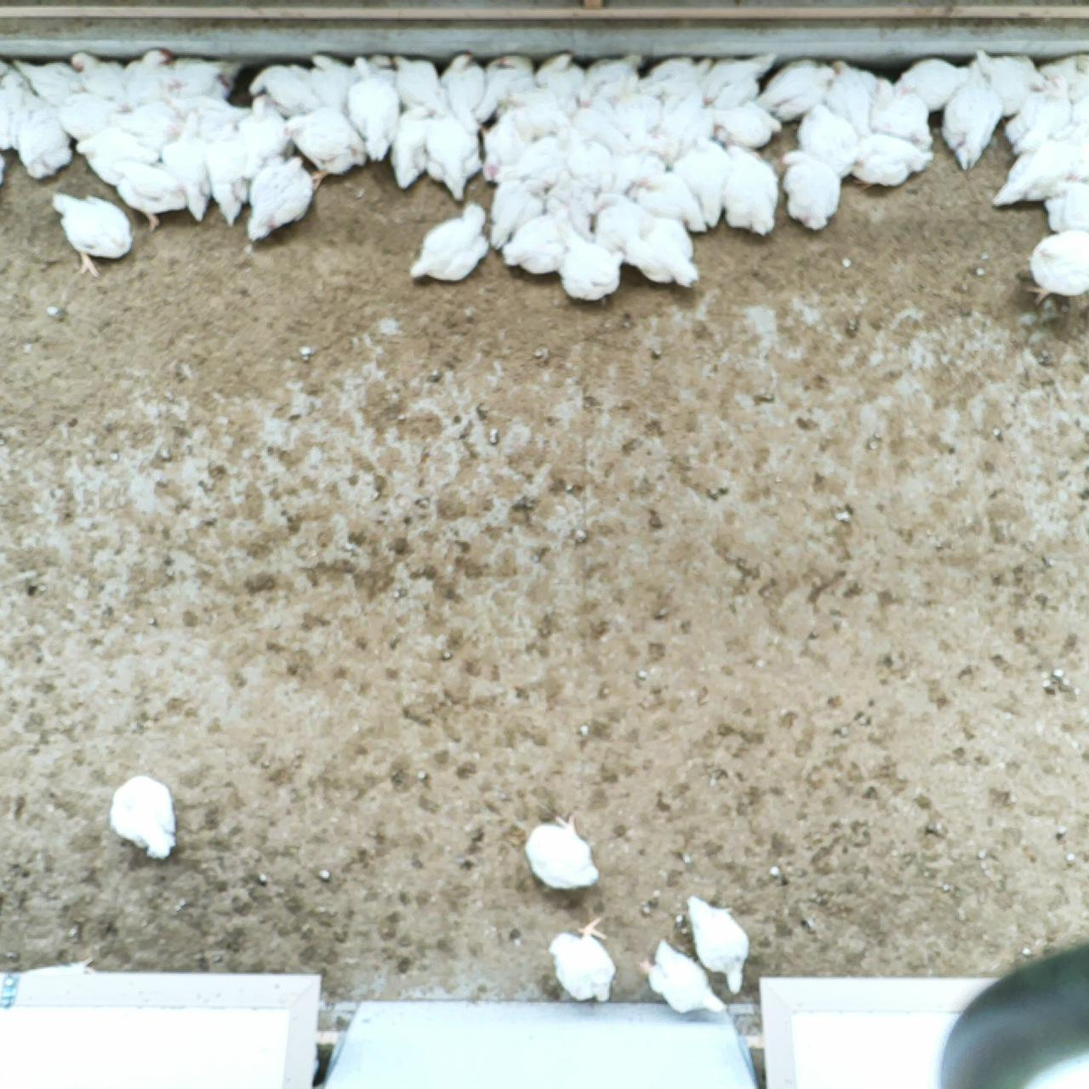chicken: (46, 185, 136, 279), (408, 199, 493, 295), (678, 888, 752, 997), (640, 935, 730, 1021), (989, 137, 1089, 214), (939, 58, 1003, 171), (107, 770, 180, 863), (242, 153, 316, 244), (281, 106, 362, 189), (341, 52, 402, 162), (549, 914, 622, 1005), (519, 811, 602, 890), (720, 137, 784, 237), (755, 50, 840, 123), (160, 107, 213, 223), (1018, 224, 1089, 309), (204, 119, 259, 228), (776, 147, 844, 235), (500, 206, 579, 280), (630, 215, 703, 293), (423, 107, 482, 201), (676, 128, 731, 228), (973, 44, 1048, 117), (866, 74, 938, 150), (1006, 72, 1071, 153), (7, 104, 76, 179), (71, 128, 160, 185), (823, 56, 888, 133), (797, 102, 859, 181), (893, 55, 975, 114), (238, 93, 294, 178), (700, 47, 778, 108), (471, 51, 533, 126), (637, 169, 707, 235), (388, 103, 438, 194), (845, 136, 932, 188), (562, 235, 625, 306), (591, 189, 651, 256), (249, 60, 319, 116), (711, 100, 787, 151), (119, 43, 179, 107), (637, 54, 714, 103), (440, 53, 485, 134), (483, 111, 534, 181), (661, 91, 716, 154), (583, 51, 646, 105), (612, 87, 664, 152), (548, 170, 599, 235), (507, 85, 570, 137), (606, 148, 670, 198), (56, 90, 125, 136), (389, 50, 443, 108), (535, 47, 583, 111), (307, 50, 354, 113), (161, 57, 233, 98), (111, 103, 184, 143), (15, 58, 82, 101), (565, 130, 615, 187), (71, 49, 124, 97), (519, 133, 564, 189), (1044, 181, 1089, 234), (170, 95, 251, 123)
